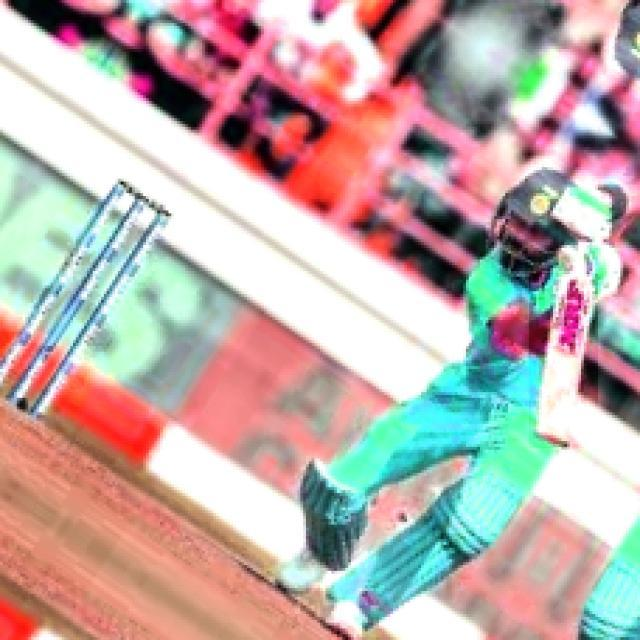bat: (529, 275, 591, 458)
toe: (539, 433, 583, 454)
